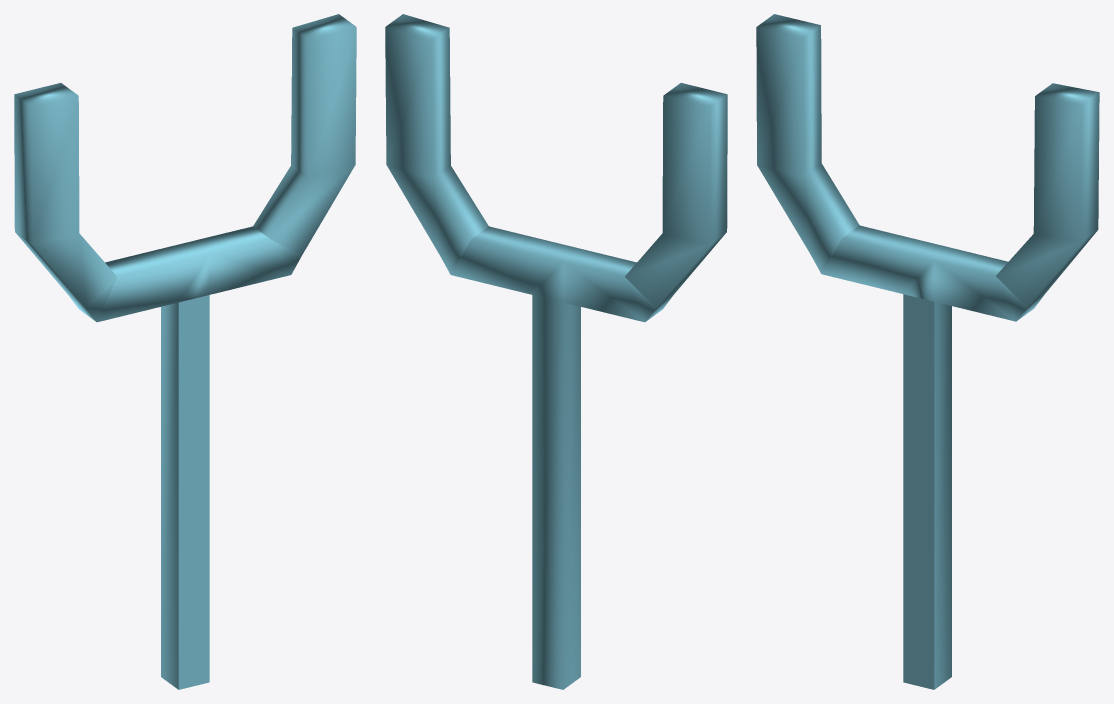
The model's file is patinko_ao.fbx.
3 renders of one model, left to right at view 1: azimuth 30°, elevation 25°; view 2: azimuth 150°, elevation 25°; view 3: azimuth 330°, elevation 25°, orthographic.
Parts seen in each view (by area): view 1: pCube5; view 2: pCube5; view 3: pCube5.
Part boxes in pixels (x1,y1,x2,y2): pCube5: [14, 14, 356, 689]; pCube5: [385, 14, 727, 689]; pCube5: [756, 14, 1099, 689].
Bounding box in the file's own units: 10.52 × 19.18 × 1.
